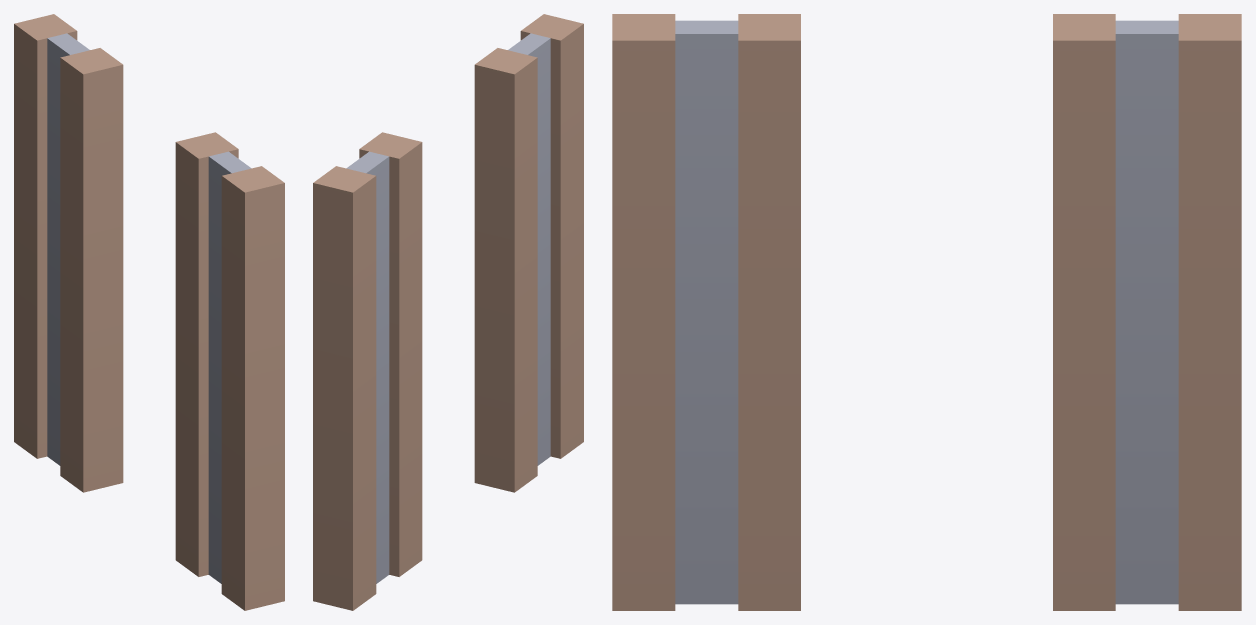
Rendered from wall-doorway-base.glb.
The picture shows the model from 3 angles, left to right: view 1: azimuth 30°, elevation 25°; view 2: azimuth 150°, elevation 25°; view 3: azimuth 270°, elevation 25°; orthographic projection. The views are drawn at different scales.
Visible parts, largest first — view 1: wall-doorway-base; view 2: wall-doorway-base; view 3: wall-doorway-base.
Boxes of the visible parts, left/top/right/bottom form: wall-doorway-base: left=14, top=14, right=284, bottom=610; wall-doorway-base: left=313, top=14, right=583, bottom=610; wall-doorway-base: left=612, top=14, right=1241, bottom=610.
Bounding box in the file's own units: 0.1 × 1 × 1.
